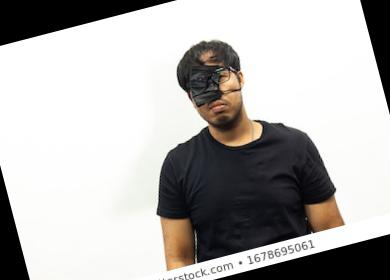mask_weared_incorrect: (186, 59, 250, 133)
